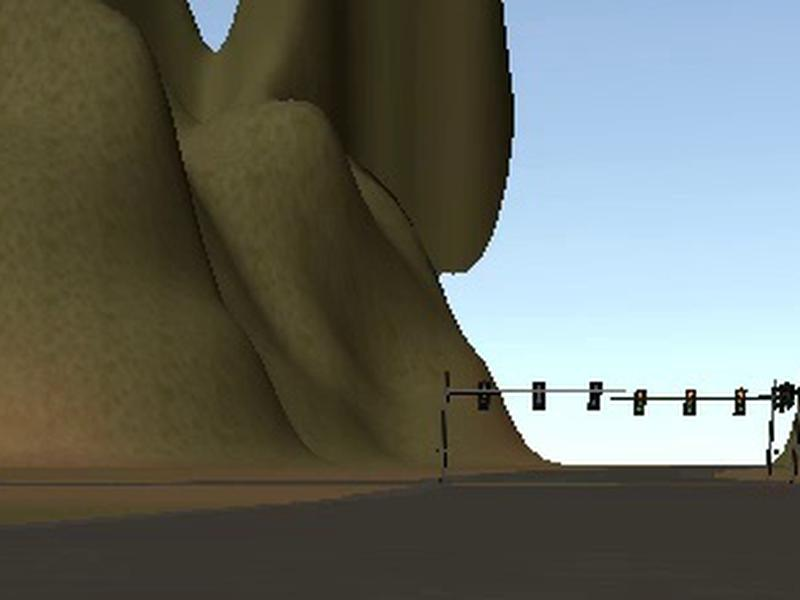Red: (682, 388, 698, 416), (732, 388, 747, 416), (634, 389, 647, 416)
